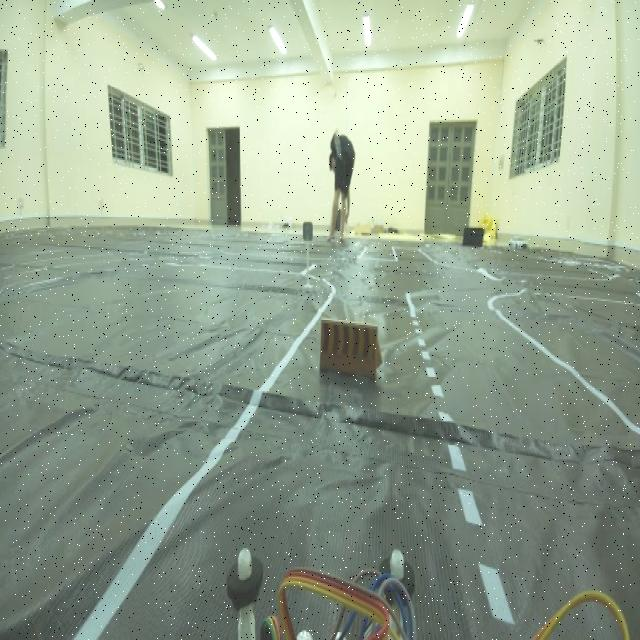roadblock: (314, 309, 384, 399)
